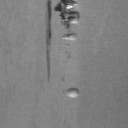slag inclusion: (46, 0, 80, 83), (61, 32, 77, 41), (66, 87, 78, 98), (66, 44, 71, 48)
